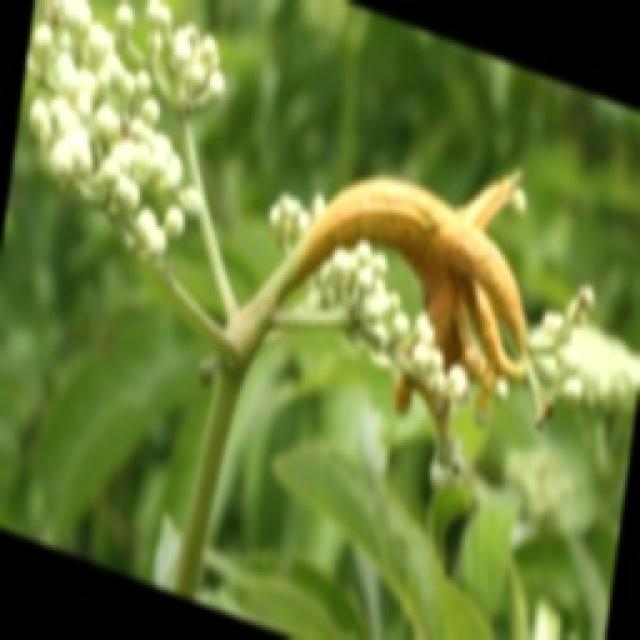Elderberry_rust: (260, 165, 535, 417)
